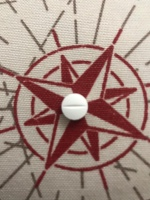Arveles: (60, 92, 89, 122)
